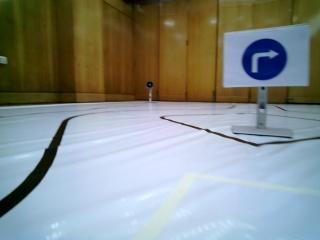right: (225, 33, 302, 87)
